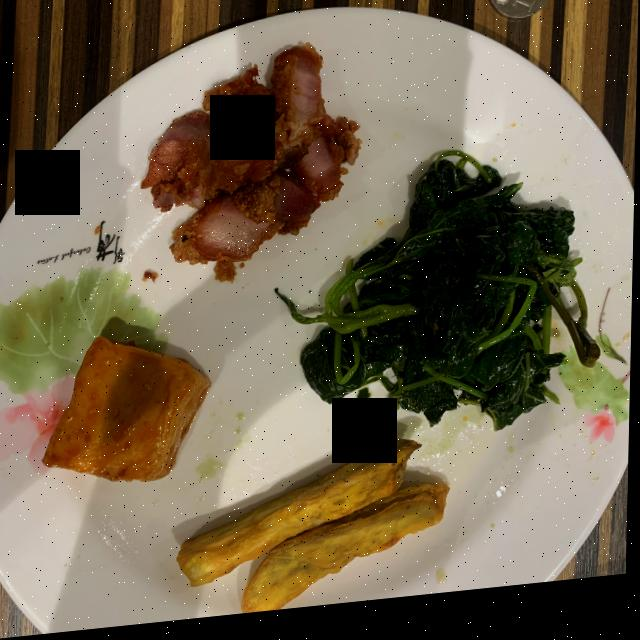coin: (489, 0, 553, 30)
creamy tofu: (44, 339, 213, 485)
red grilled pork: (143, 50, 362, 286)
sweet potato leaves: (284, 162, 601, 441)
